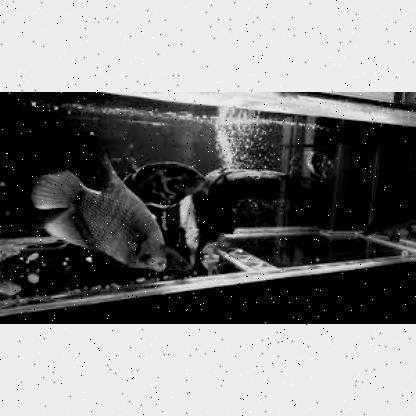gurame: (35, 171, 169, 273)
